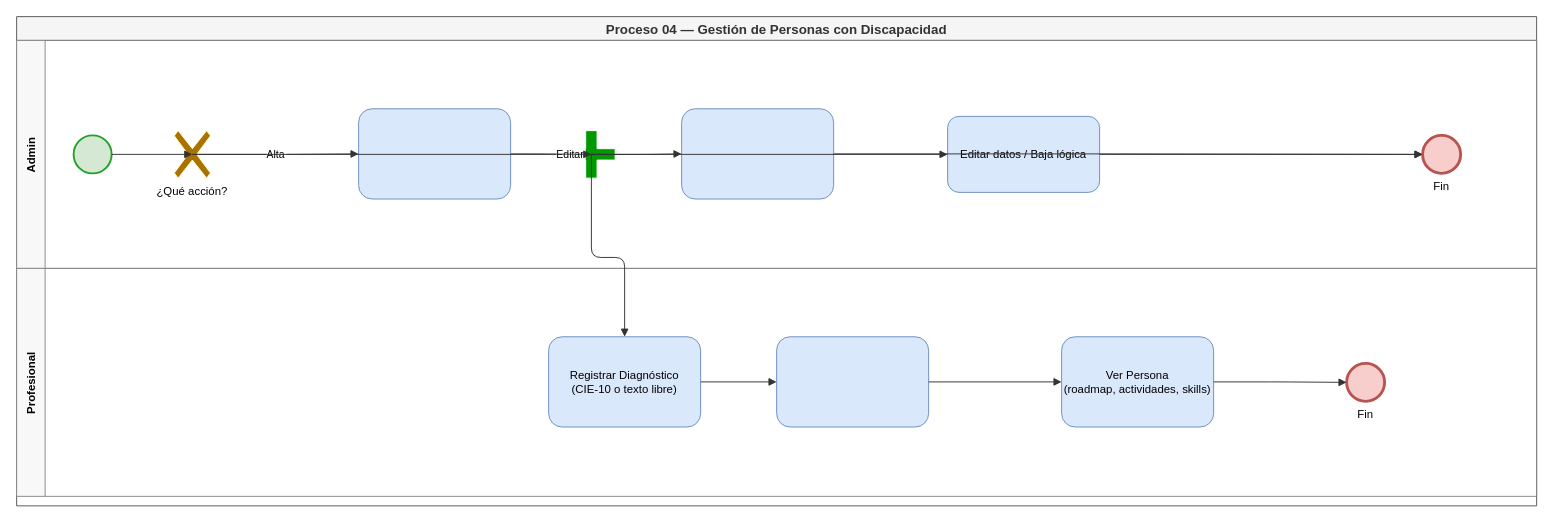
Image size: 1553x523. Some labels were removed from this diagram. Here are the shapes that lost their labels. From the top down, the centre of each, then its label:
At [92,154]: "Inicio".
At [434,153]: "Alta de Persona (tipo discapacidad, nivel autonomía)".
At [757,153]: "Configurar Login PCD (PIN, Visual, Asistido)".
At [852,381]: "Configurar Perfil de Habilidades (áreas de habilidad)".
